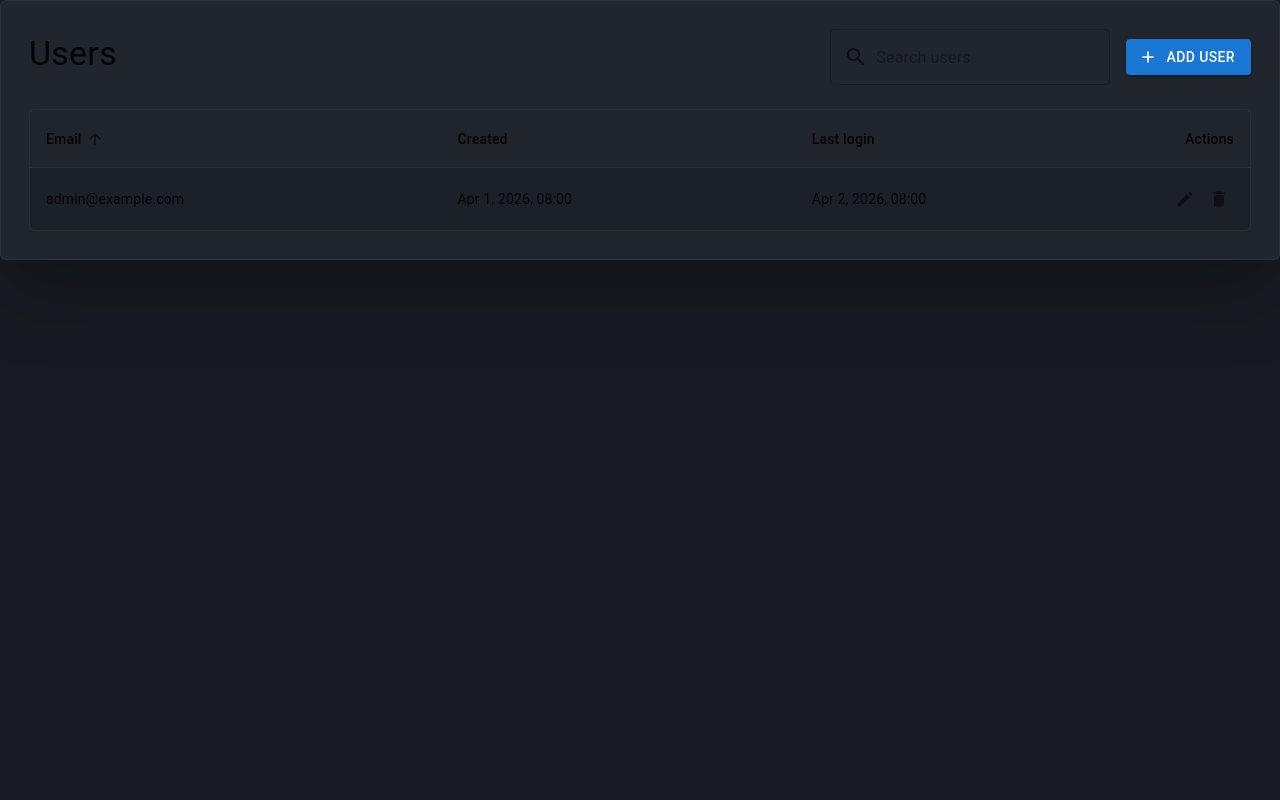
UsersView › Shall_load_users_and_create_a_new_user
This screenshot has width=1280, height=800.
Expected: the text "admin@example.com" is shown, left=30, top=168, right=442, bottom=230
Step 1. Click the button "Add user" → coordinates (1189, 57), box left=1126, top=39, right=1251, bottom=75
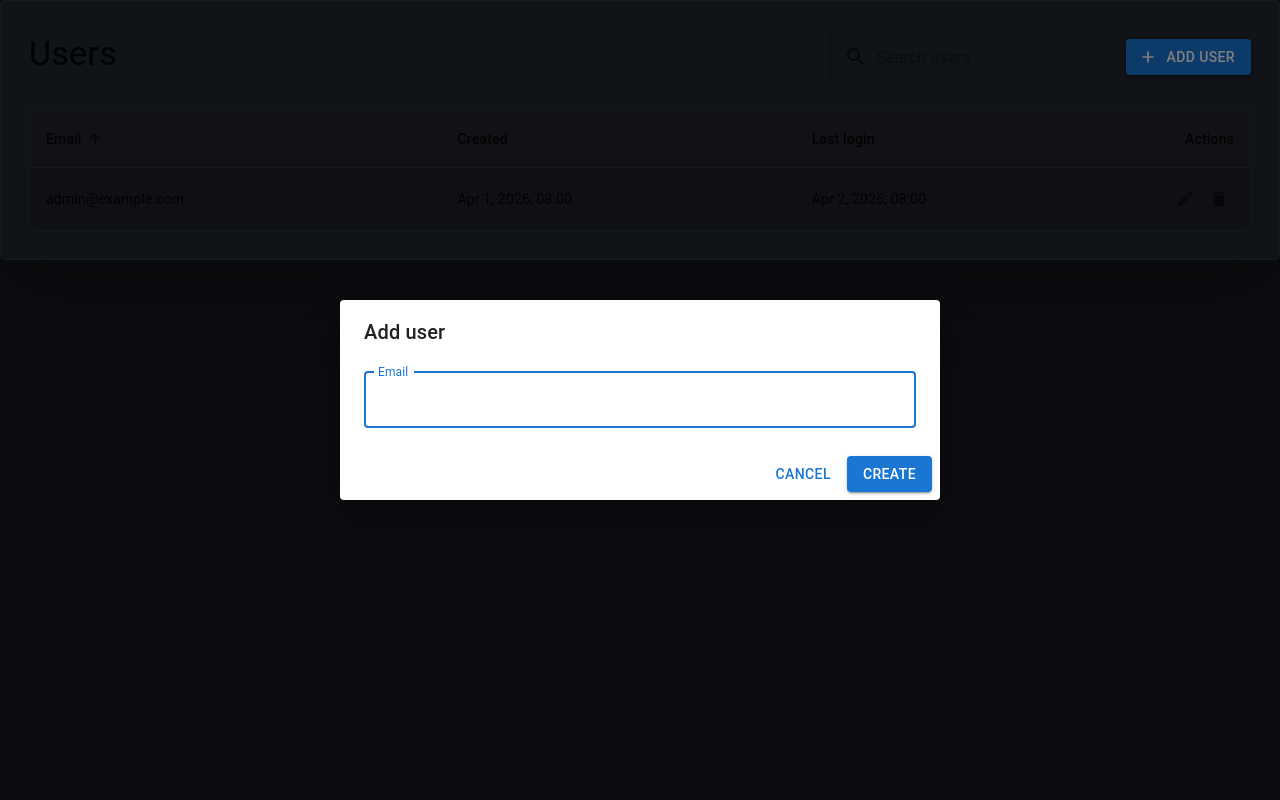
Step 2. Type "new@example.com" into the field labelled "Email" → coordinates (640, 400), box left=364, top=372, right=916, bottom=428
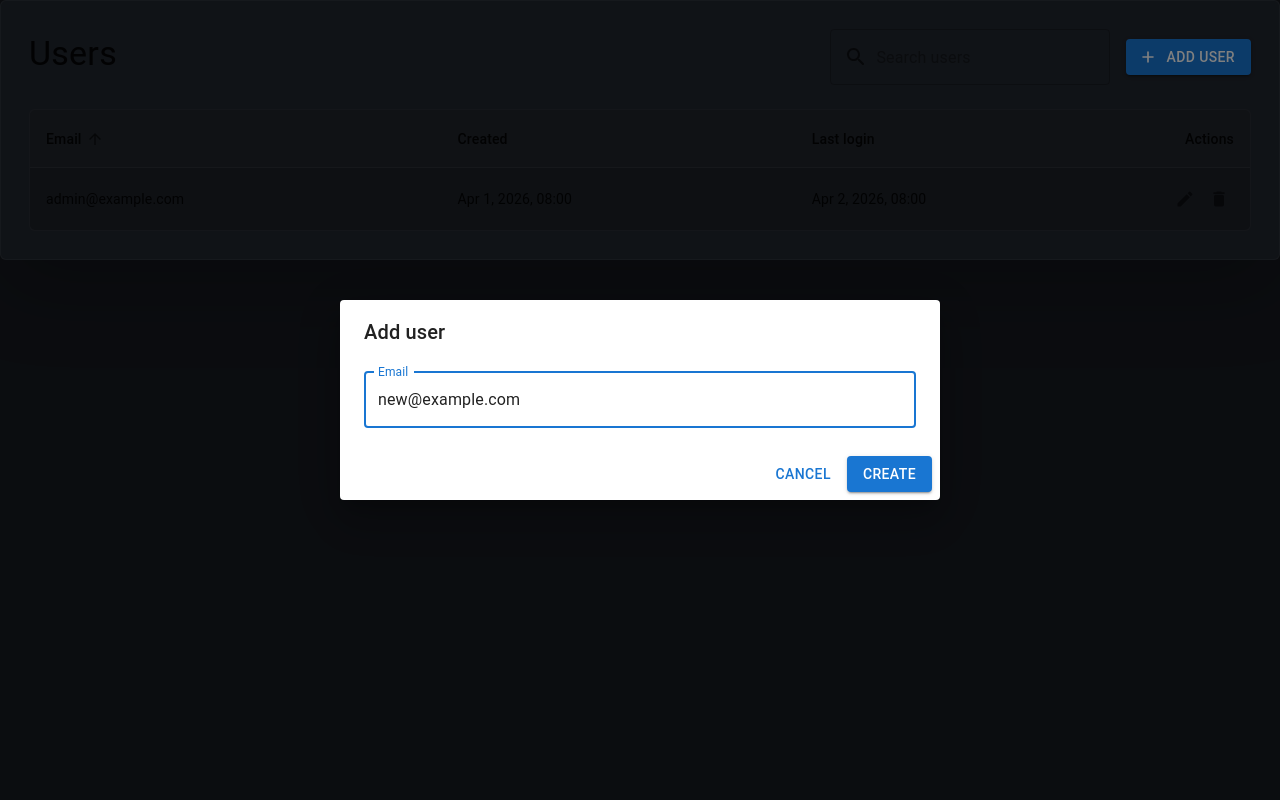
Step 3. Click the button "Create" → coordinates (889, 474), box left=847, top=456, right=932, bottom=492
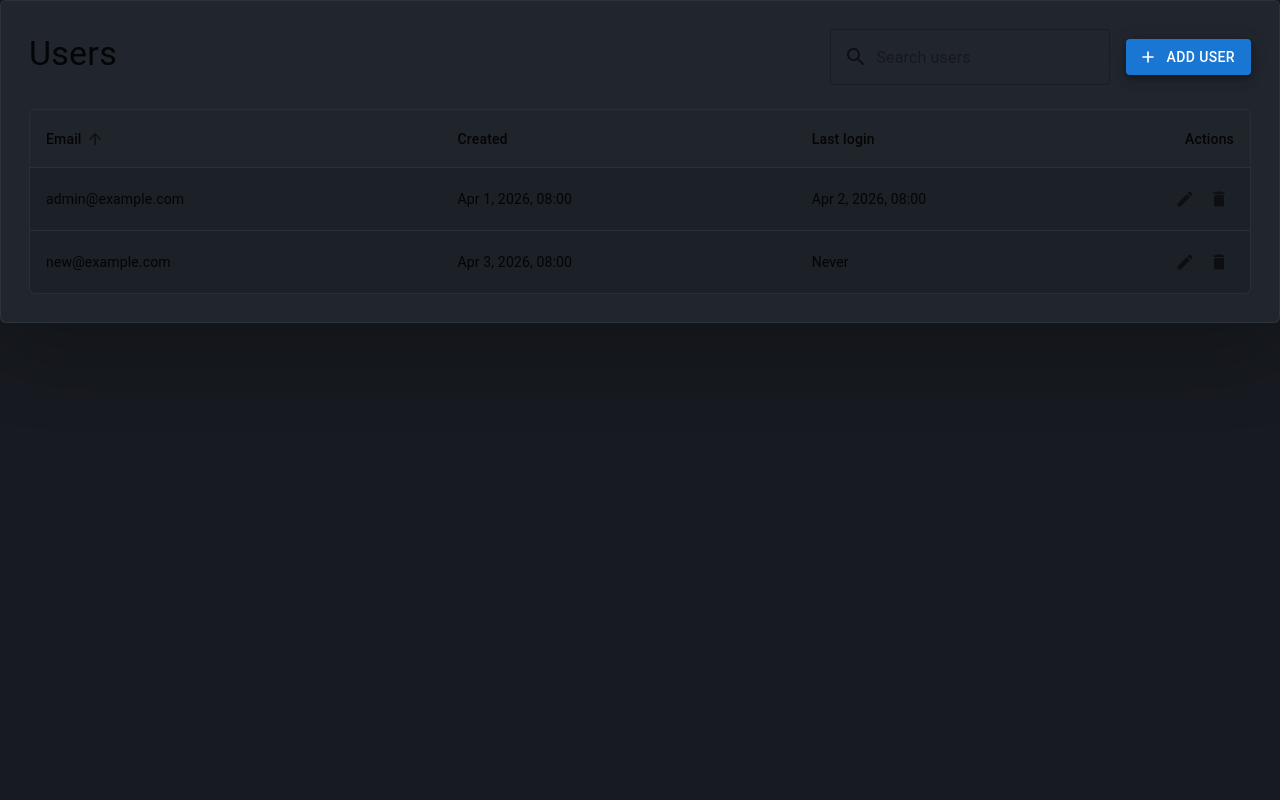
Result: the text "new@example.com" is shown at left=30, top=231, right=442, bottom=293
